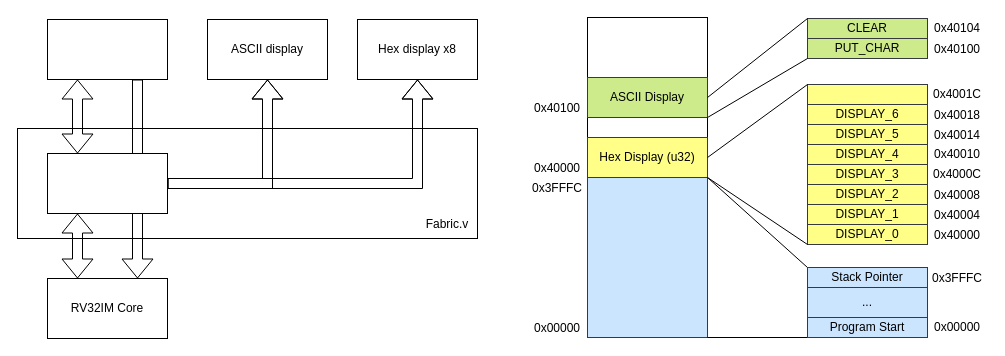
This 1005x356 diagram has some shape labels left out. The centre of each missing label's shape, as x and y in pixels:
256 KiB RAM: the point at 107,49
DISPLAY_7: the point at 867,94
Memory arbiter: the point at 107,183
Program + Free space 256 KiB: the point at 647,257
